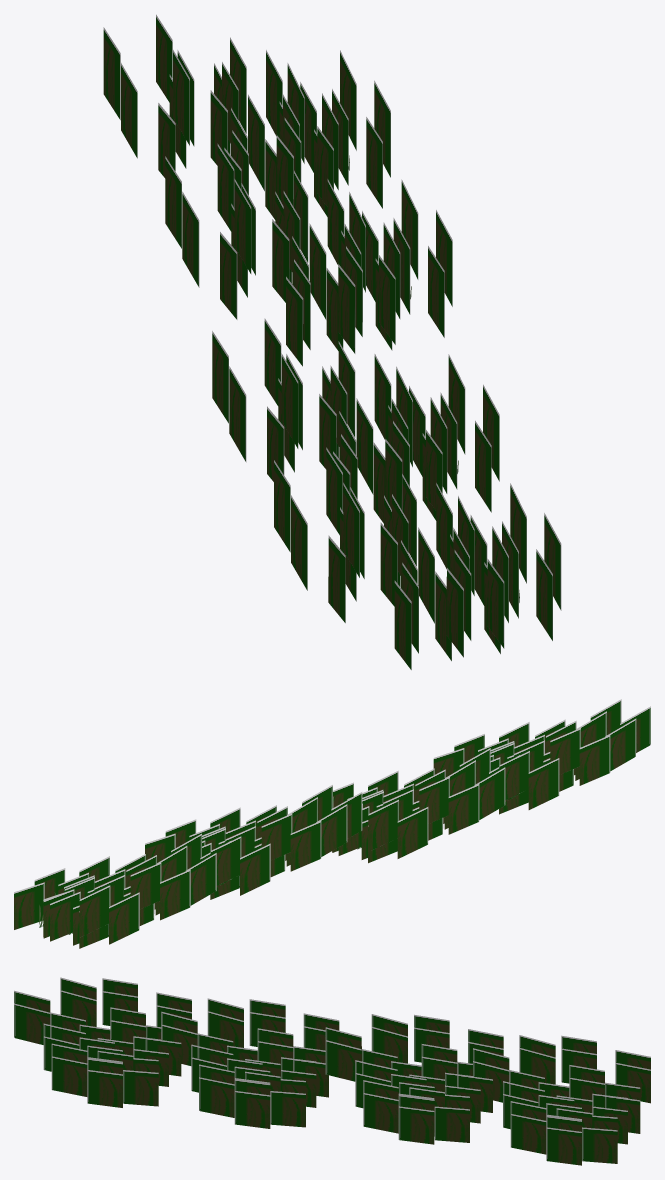
The model's file is grasnew.fbx.
3 renders of one model, top to bottom at view 1: azimuth 30°, elevation 25°; view 2: azimuth 150°, elevation 25°; view 3: azimuth 270°, elevation 25°, orthographic. The views are drawn at different scales.
Visible parts, largest first — view 1: polySurface4305, polySurface4304; view 2: polySurface4305, polySurface4304; view 3: polySurface4305, polySurface4304.
Part boxes in pixels (left/top/right/bottom): polySurface4305: left=156, top=14, right=561, bottom=657; polySurface4304: left=103, top=27, right=508, bottom=670; polySurface4305: left=14, top=699, right=621, bottom=941; polySurface4304: left=43, top=706, right=650, bottom=948; polySurface4305: left=14, top=990, right=650, bottom=1165; polySurface4304: left=14, top=977, right=650, bottom=1130.
Bounding box in the file's own units: 706 × 196 × 1412.
